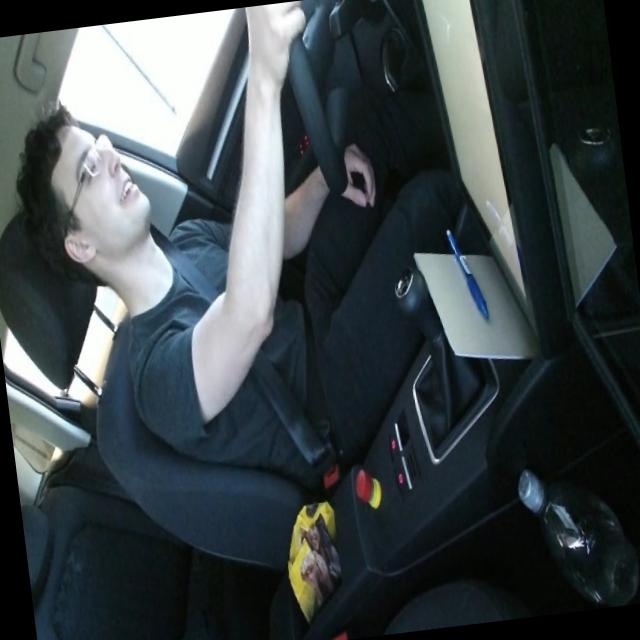pen: (444, 222, 490, 324)
